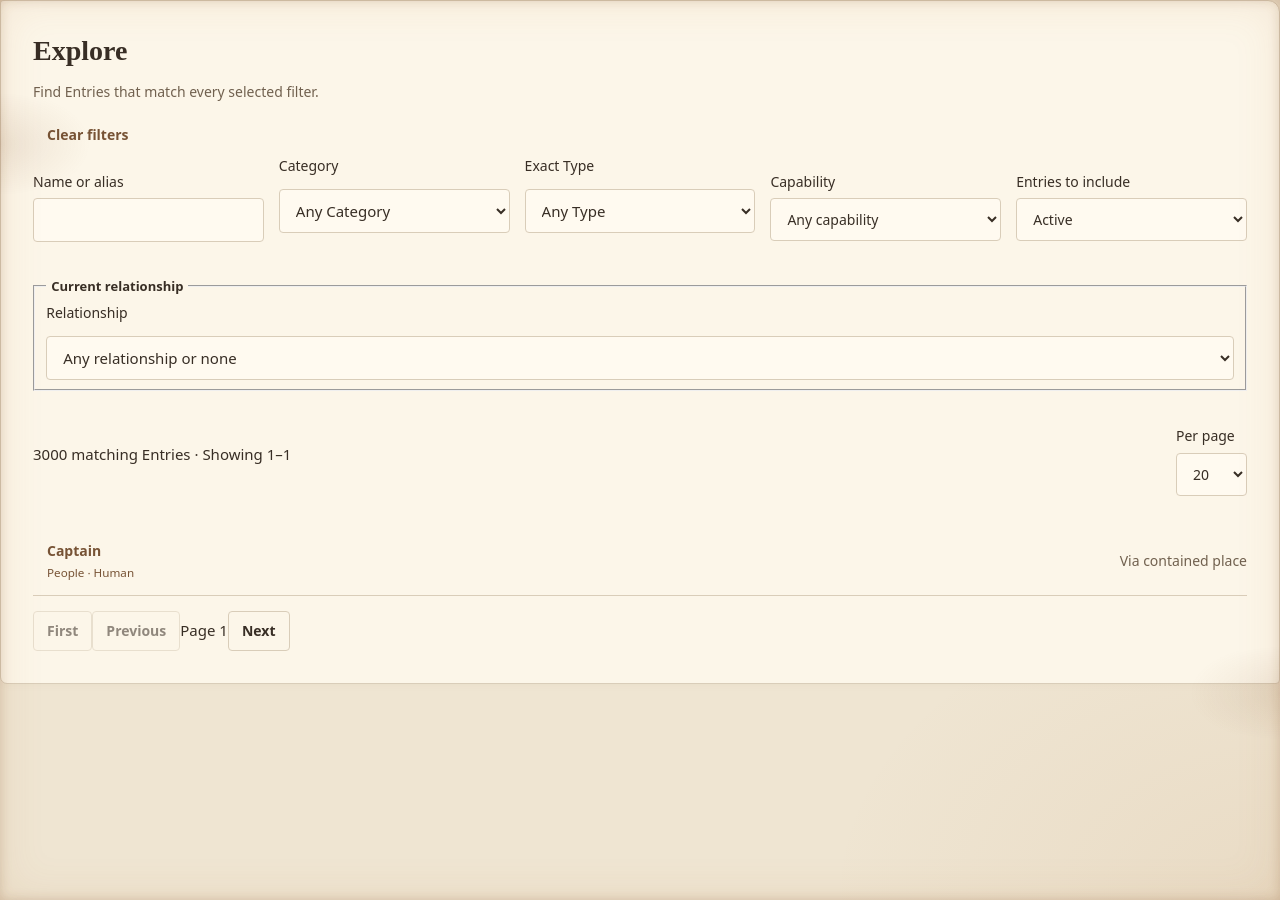
Test: paginates the backend results and distinguishes direct and containment-derived matches
This screenshot has width=1280, height=900.
Expected: the text "Via contained place" is shown, [1120, 550, 1247, 572]
Click the button "Next": {"x": 259, "y": 631} [228, 611, 290, 651]
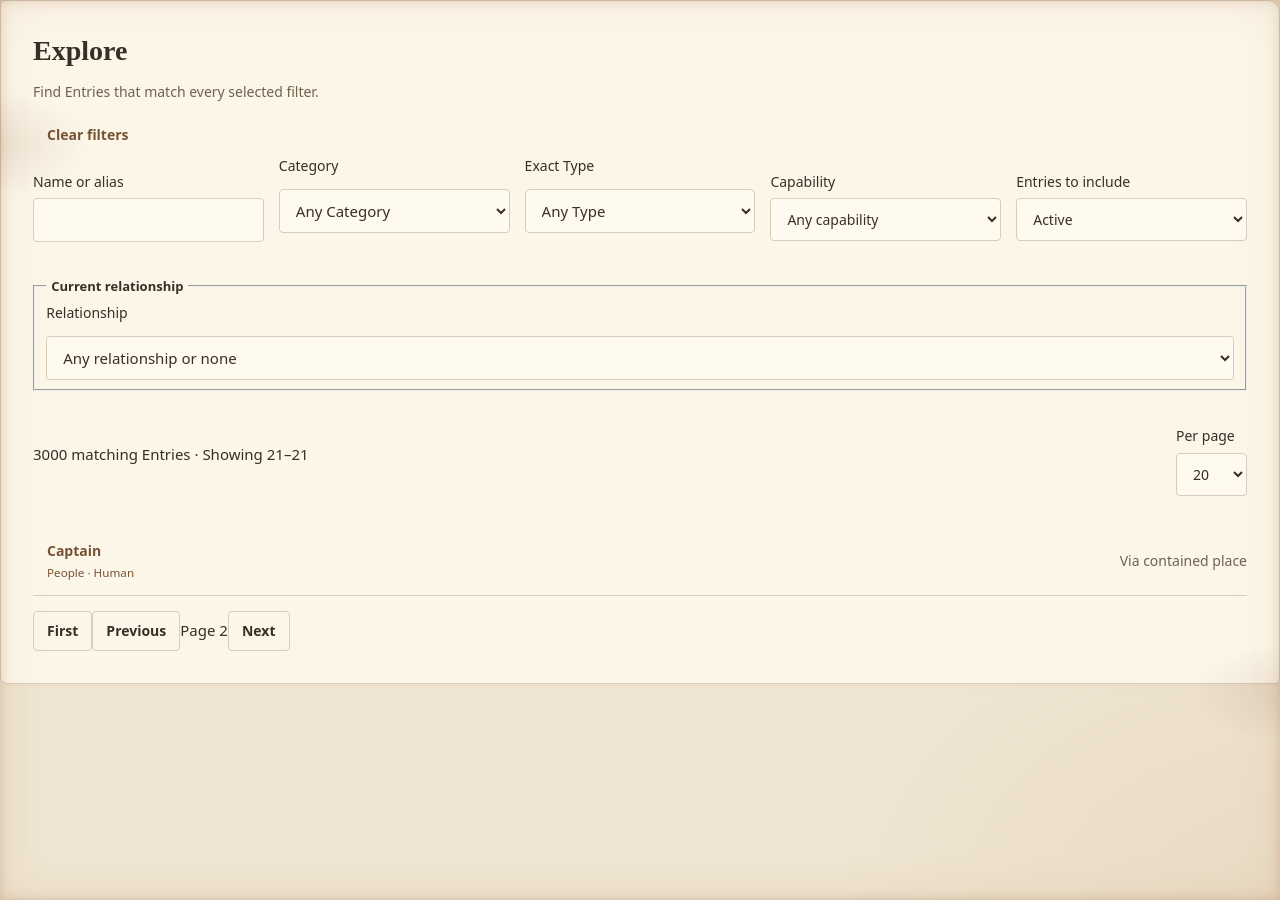
Select "100" in the dropdown labelled "Per page": {"x": 1212, "y": 474} [1176, 453, 1247, 496]
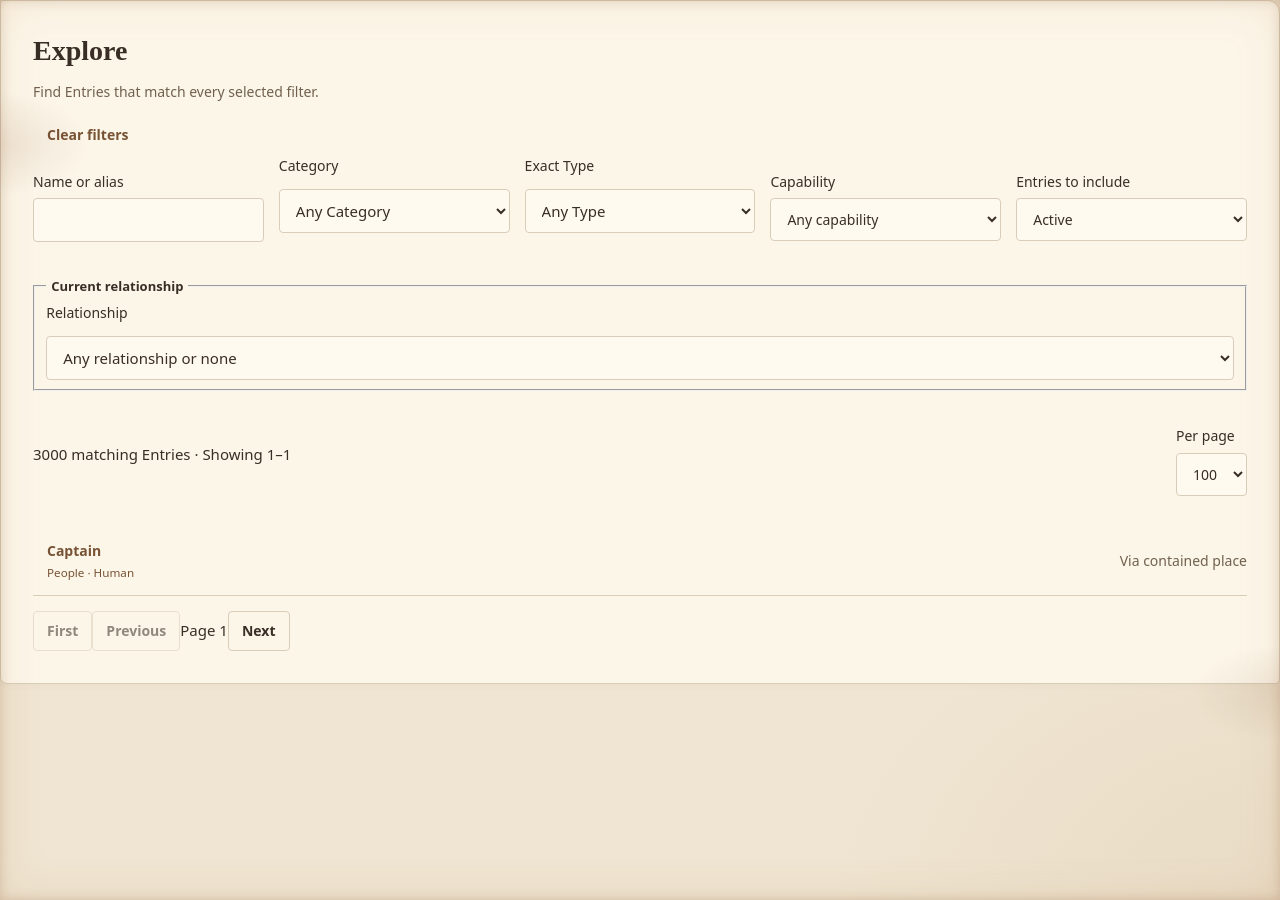
Now the button "Previous" is disabled, box [92, 611, 180, 651]
